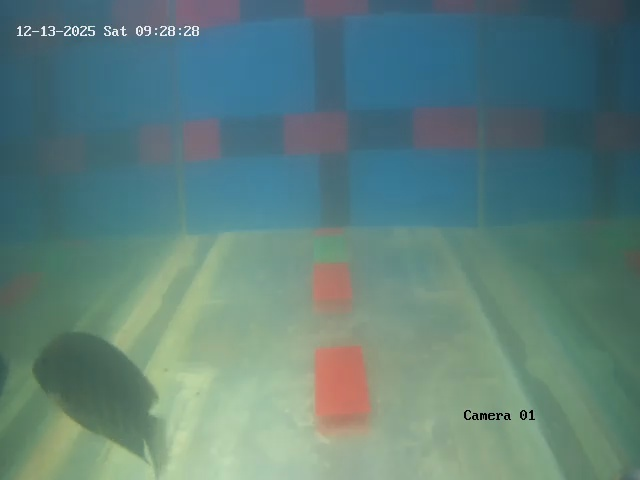fish: (27, 327, 156, 451)
